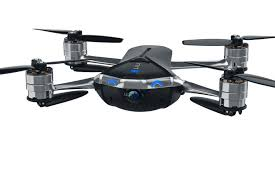Drone: (3, 10, 273, 133)
